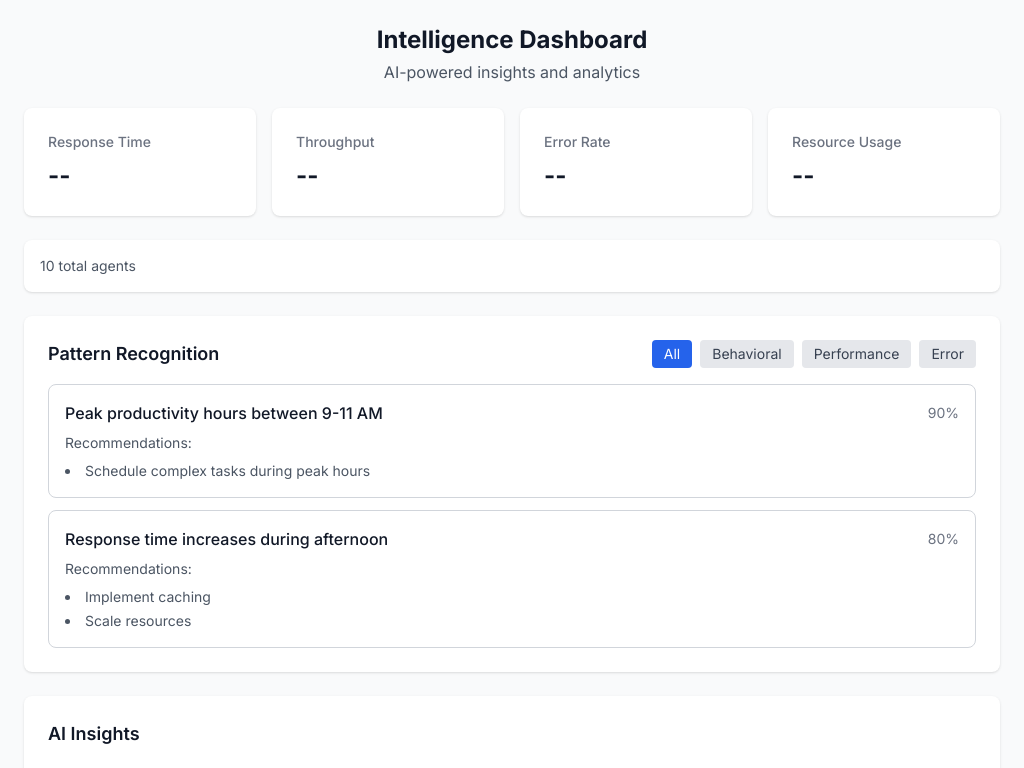
Scenario: IntelligenceDashboard › Pattern Recognition Panel › should filter patterns by type
Note: Click behavioral filter
Click the button "Behavioral".
click(747, 354)  # box [700,340,794,368]
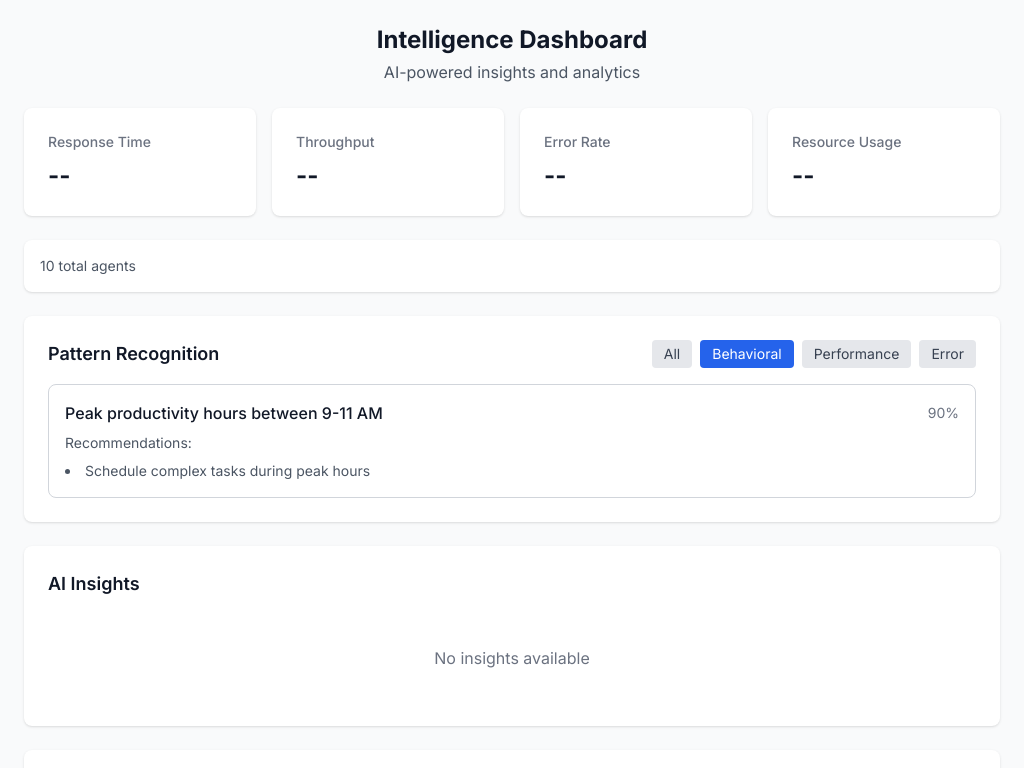
Expected: the text "Peak productivity hours between 9-11 AM" is shown, [65,401,383,425]
Now the text "Response time increases during afternoon" is gone
